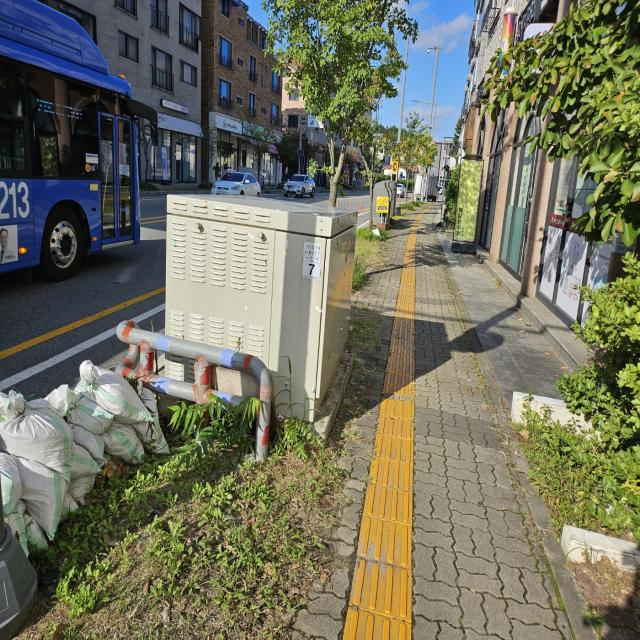General Waste: (0, 362, 170, 552)
